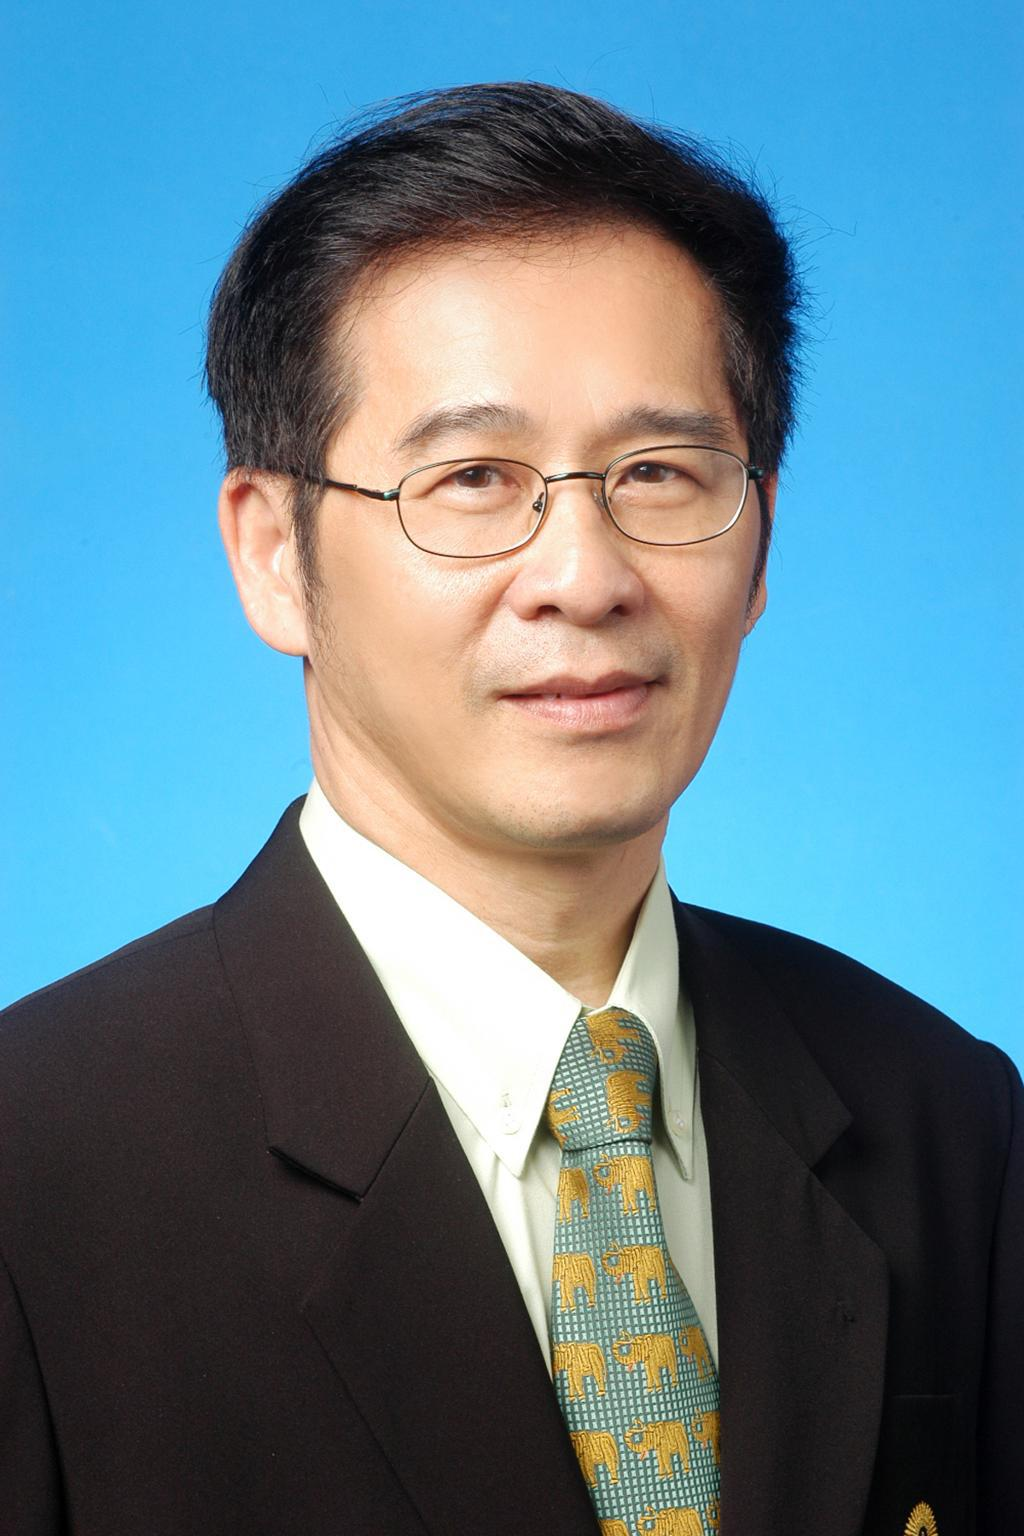face: (310, 262, 766, 842)
